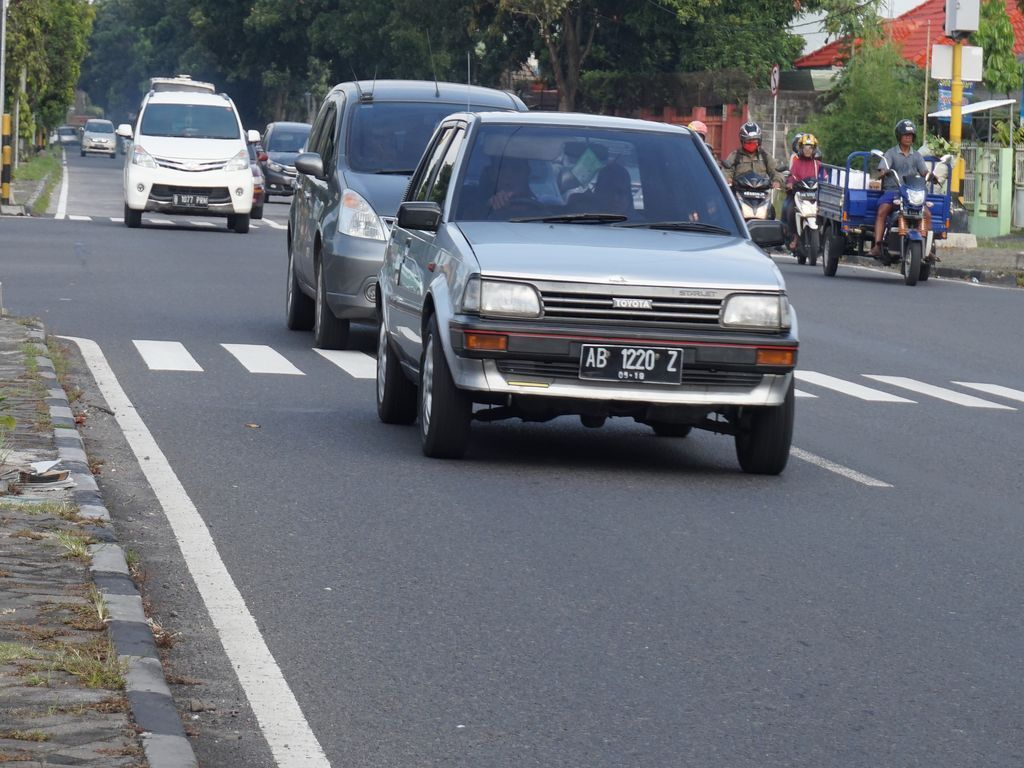plate: (581, 348, 678, 378)
